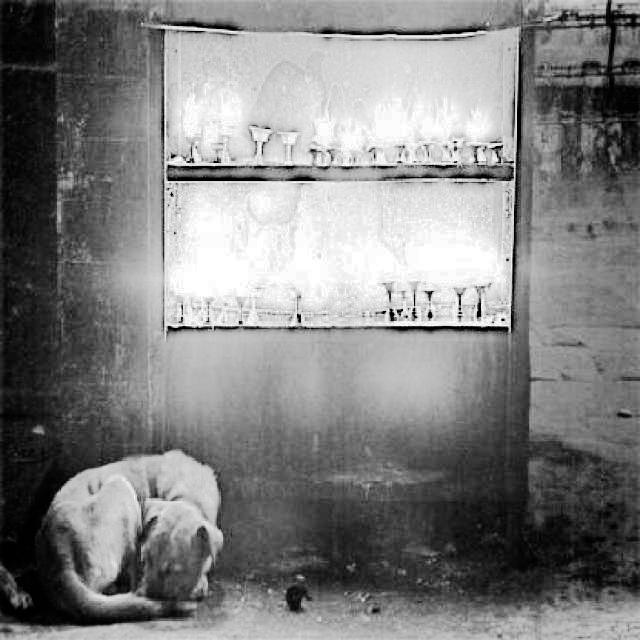Dog: (6, 435, 229, 628)
